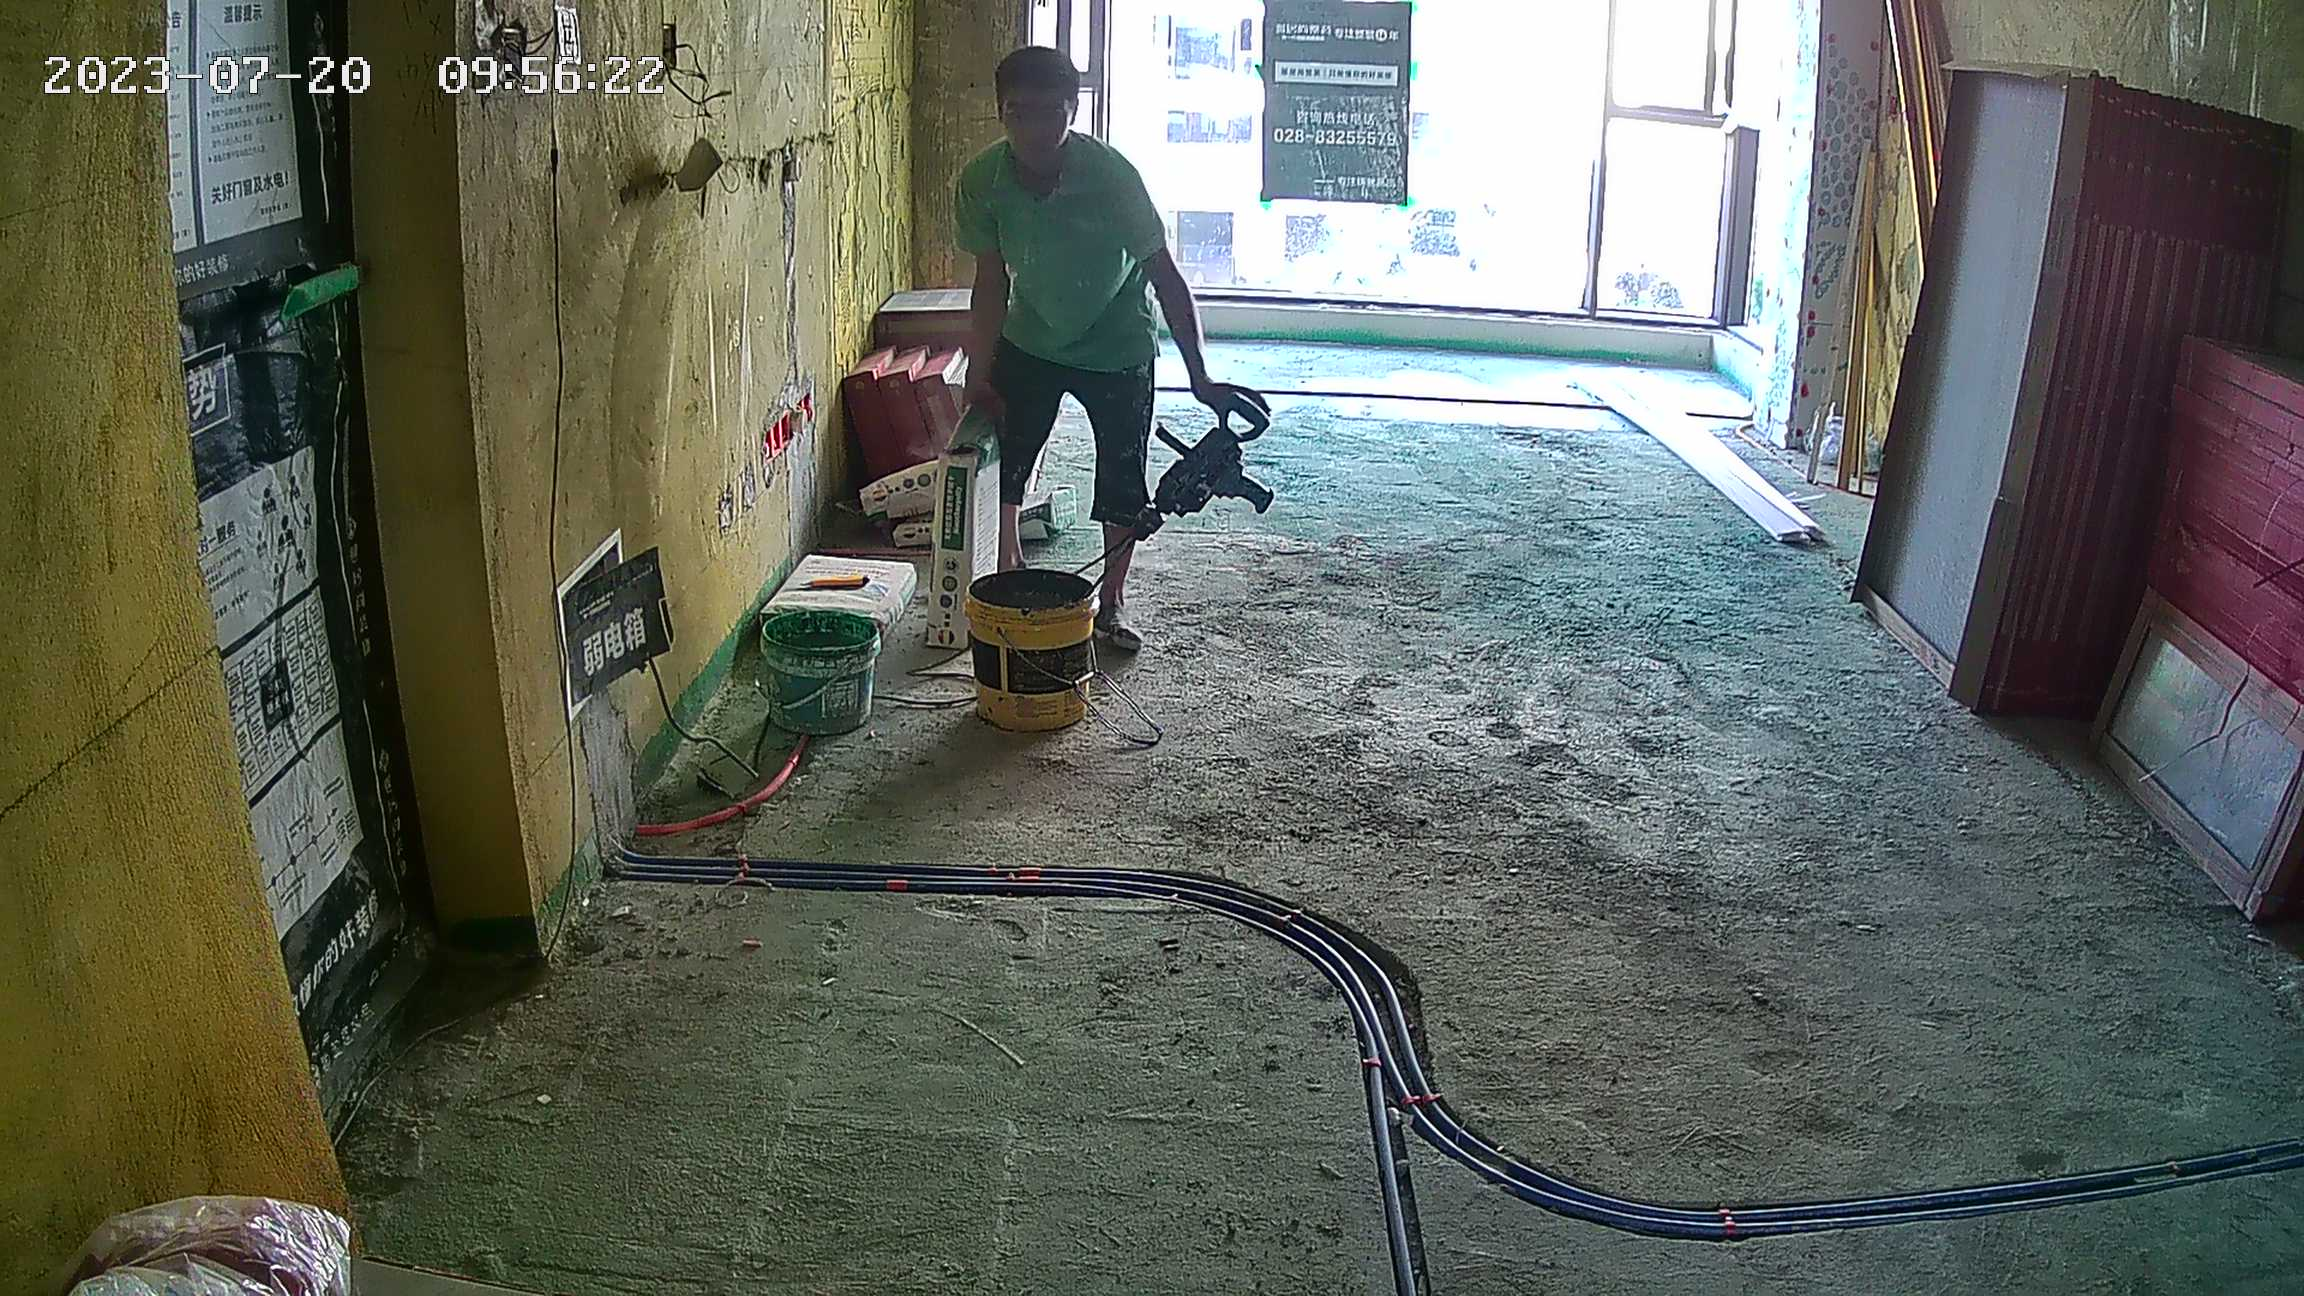people: (943, 44, 1271, 663)
window: (1034, 1, 1764, 343)
